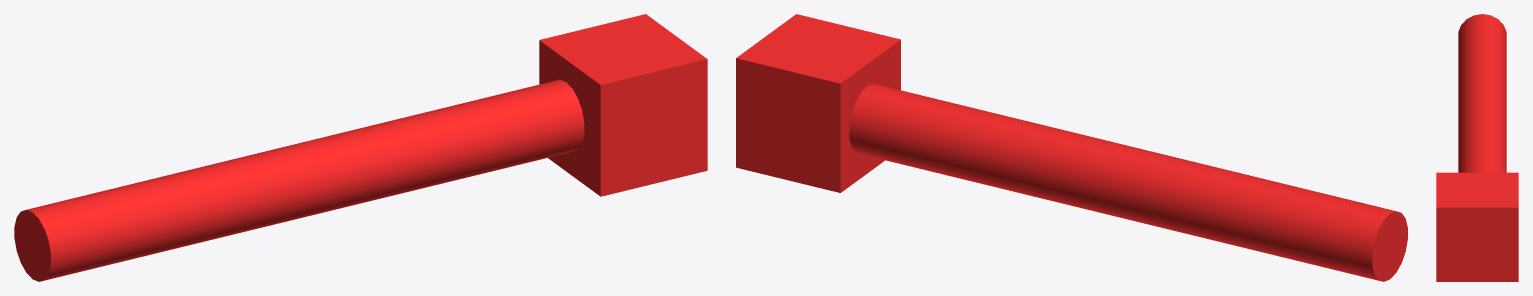
The model's file is Scale_X.fbx.
3 renders of one model, left to right at view 1: azimuth 30°, elevation 25°; view 2: azimuth 150°, elevation 25°; view 3: azimuth 270°, elevation 25°, orthographic. The views are drawn at different scales.
Visible parts, largest first — view 1: X_Axis2; view 2: X_Axis2; view 3: X_Axis2.
Boxes of the visible parts, x1=… form: X_Axis2: x1=14, y1=14, x2=707, y2=281; X_Axis2: x1=736, y1=14, x2=1407, y2=281; X_Axis2: x1=1436, y1=14, x2=1518, y2=281.
Size of the model in its own units: 60 by 10 by 10.
